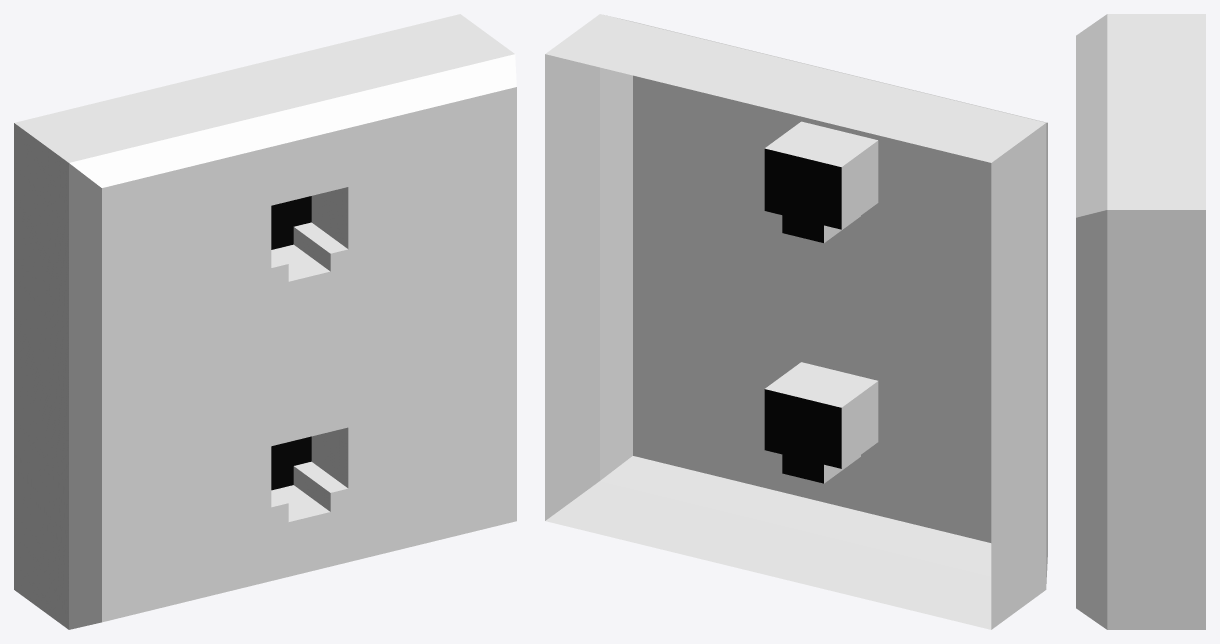
File: Ethernet_Port.fbx
3 views of the same model, side by side, from view 1: azimuth 30°, elevation 25°; view 2: azimuth 150°, elevation 25°; view 3: azimuth 270°, elevation 25° (orthographic). The views are drawn at different scales.
Parts seen in each view (by area): view 1: Cube.268; view 2: Cube.268; view 3: Cube.268.
Part boxes in pixels (x1,y1,x2,y2): Cube.268: (14, 14, 516, 629); Cube.268: (545, 14, 1047, 629); Cube.268: (1076, 14, 1205, 629).
Bounding box in the file's own units: 13.65 × 13.65 × 3.82.
